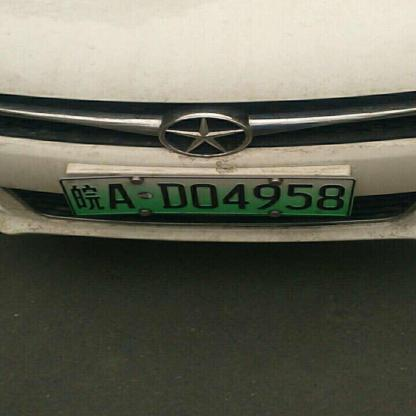lp: (60, 179, 356, 218)
